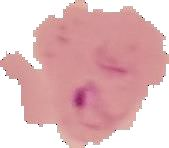parasitized: (68, 79, 124, 131)
